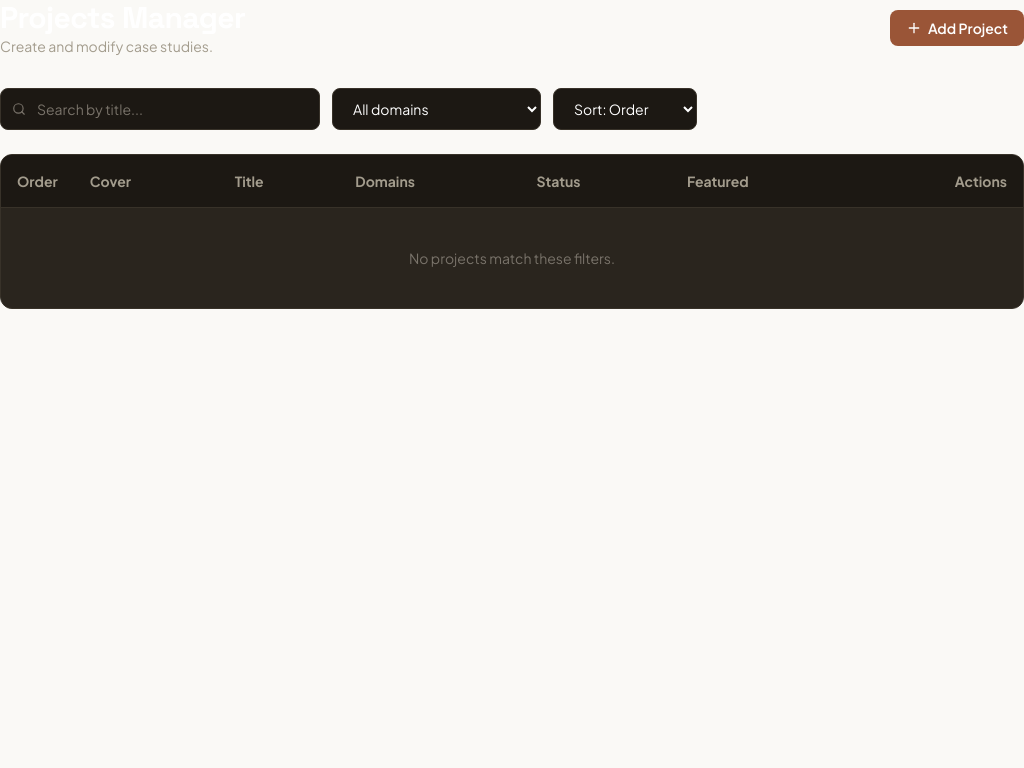
Test: Admin ProjectsManager form › shows validation errors when submitted with a too-short title
Click the button "Add Project" at (957, 28), box [890,10,1023,46]
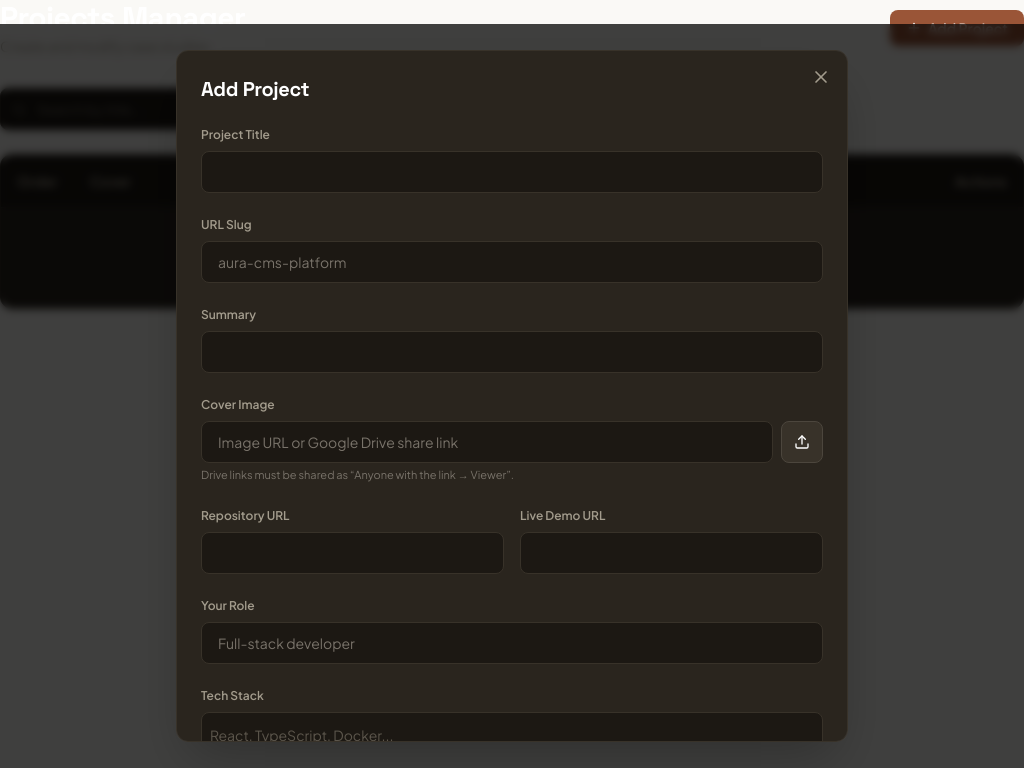
Type "AB" into the field labelled "Project Title" at (512, 172), box [201,151,823,193]
(page scrolled)
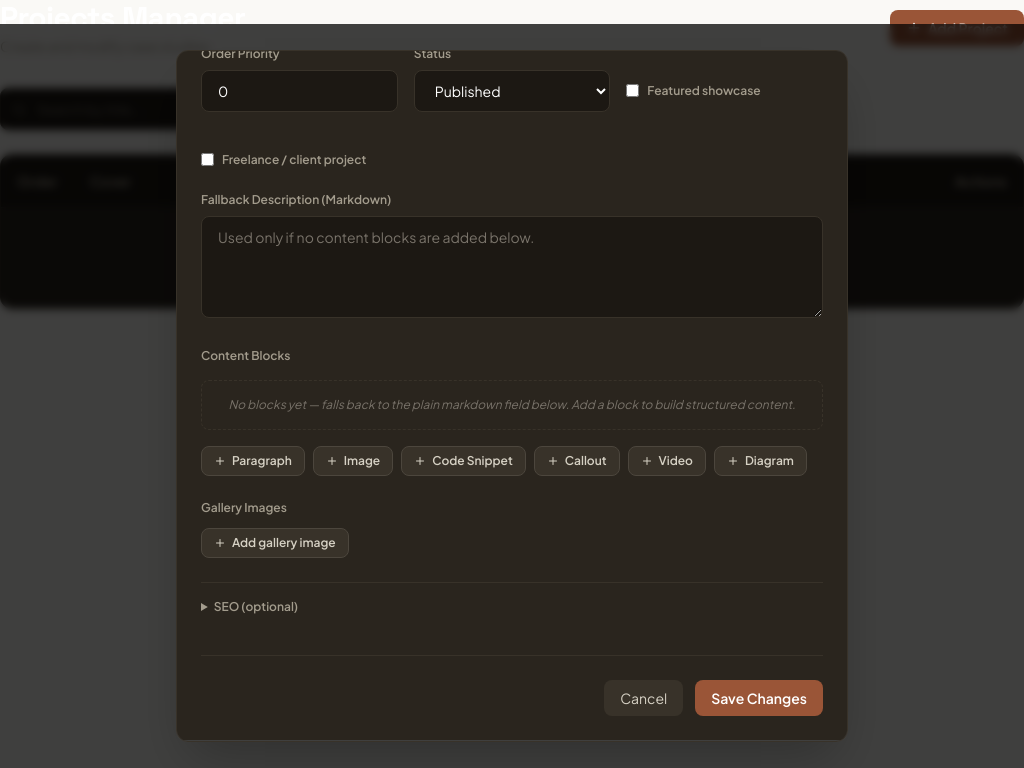
Click the button "Save Changes" at (759, 698), box [695,680,823,716]
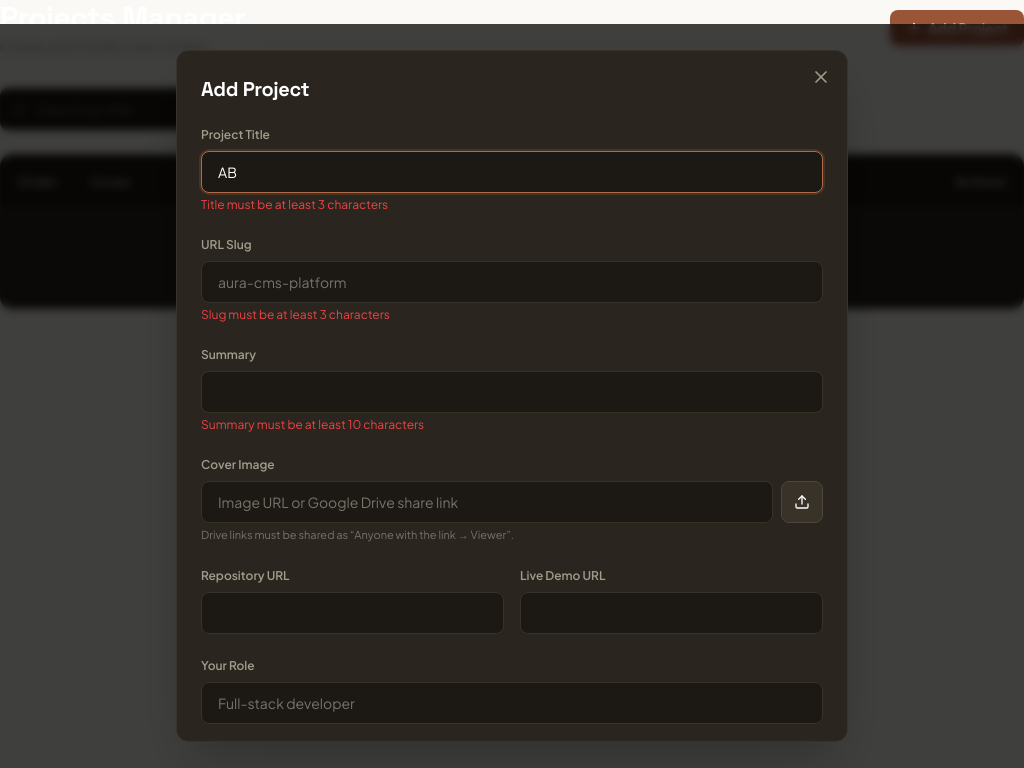
Expected: the text "Title must be at least 3 characters" is shown, [201,197,388,212]
